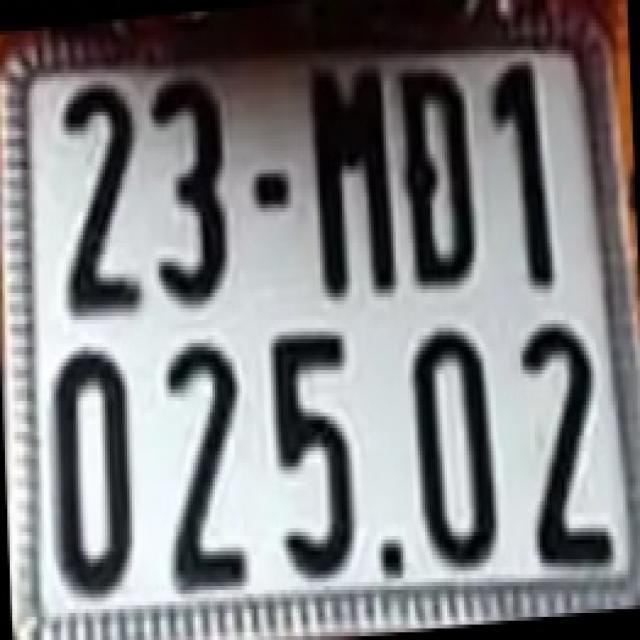0: (410, 320, 500, 571), (54, 343, 134, 594)
1: (488, 58, 562, 289)
2: (520, 316, 618, 567), (164, 335, 249, 586), (58, 77, 142, 312)
3: (149, 70, 230, 304)
5: (268, 324, 356, 578)
D: (401, 66, 478, 290)
M: (306, 42, 398, 297)
